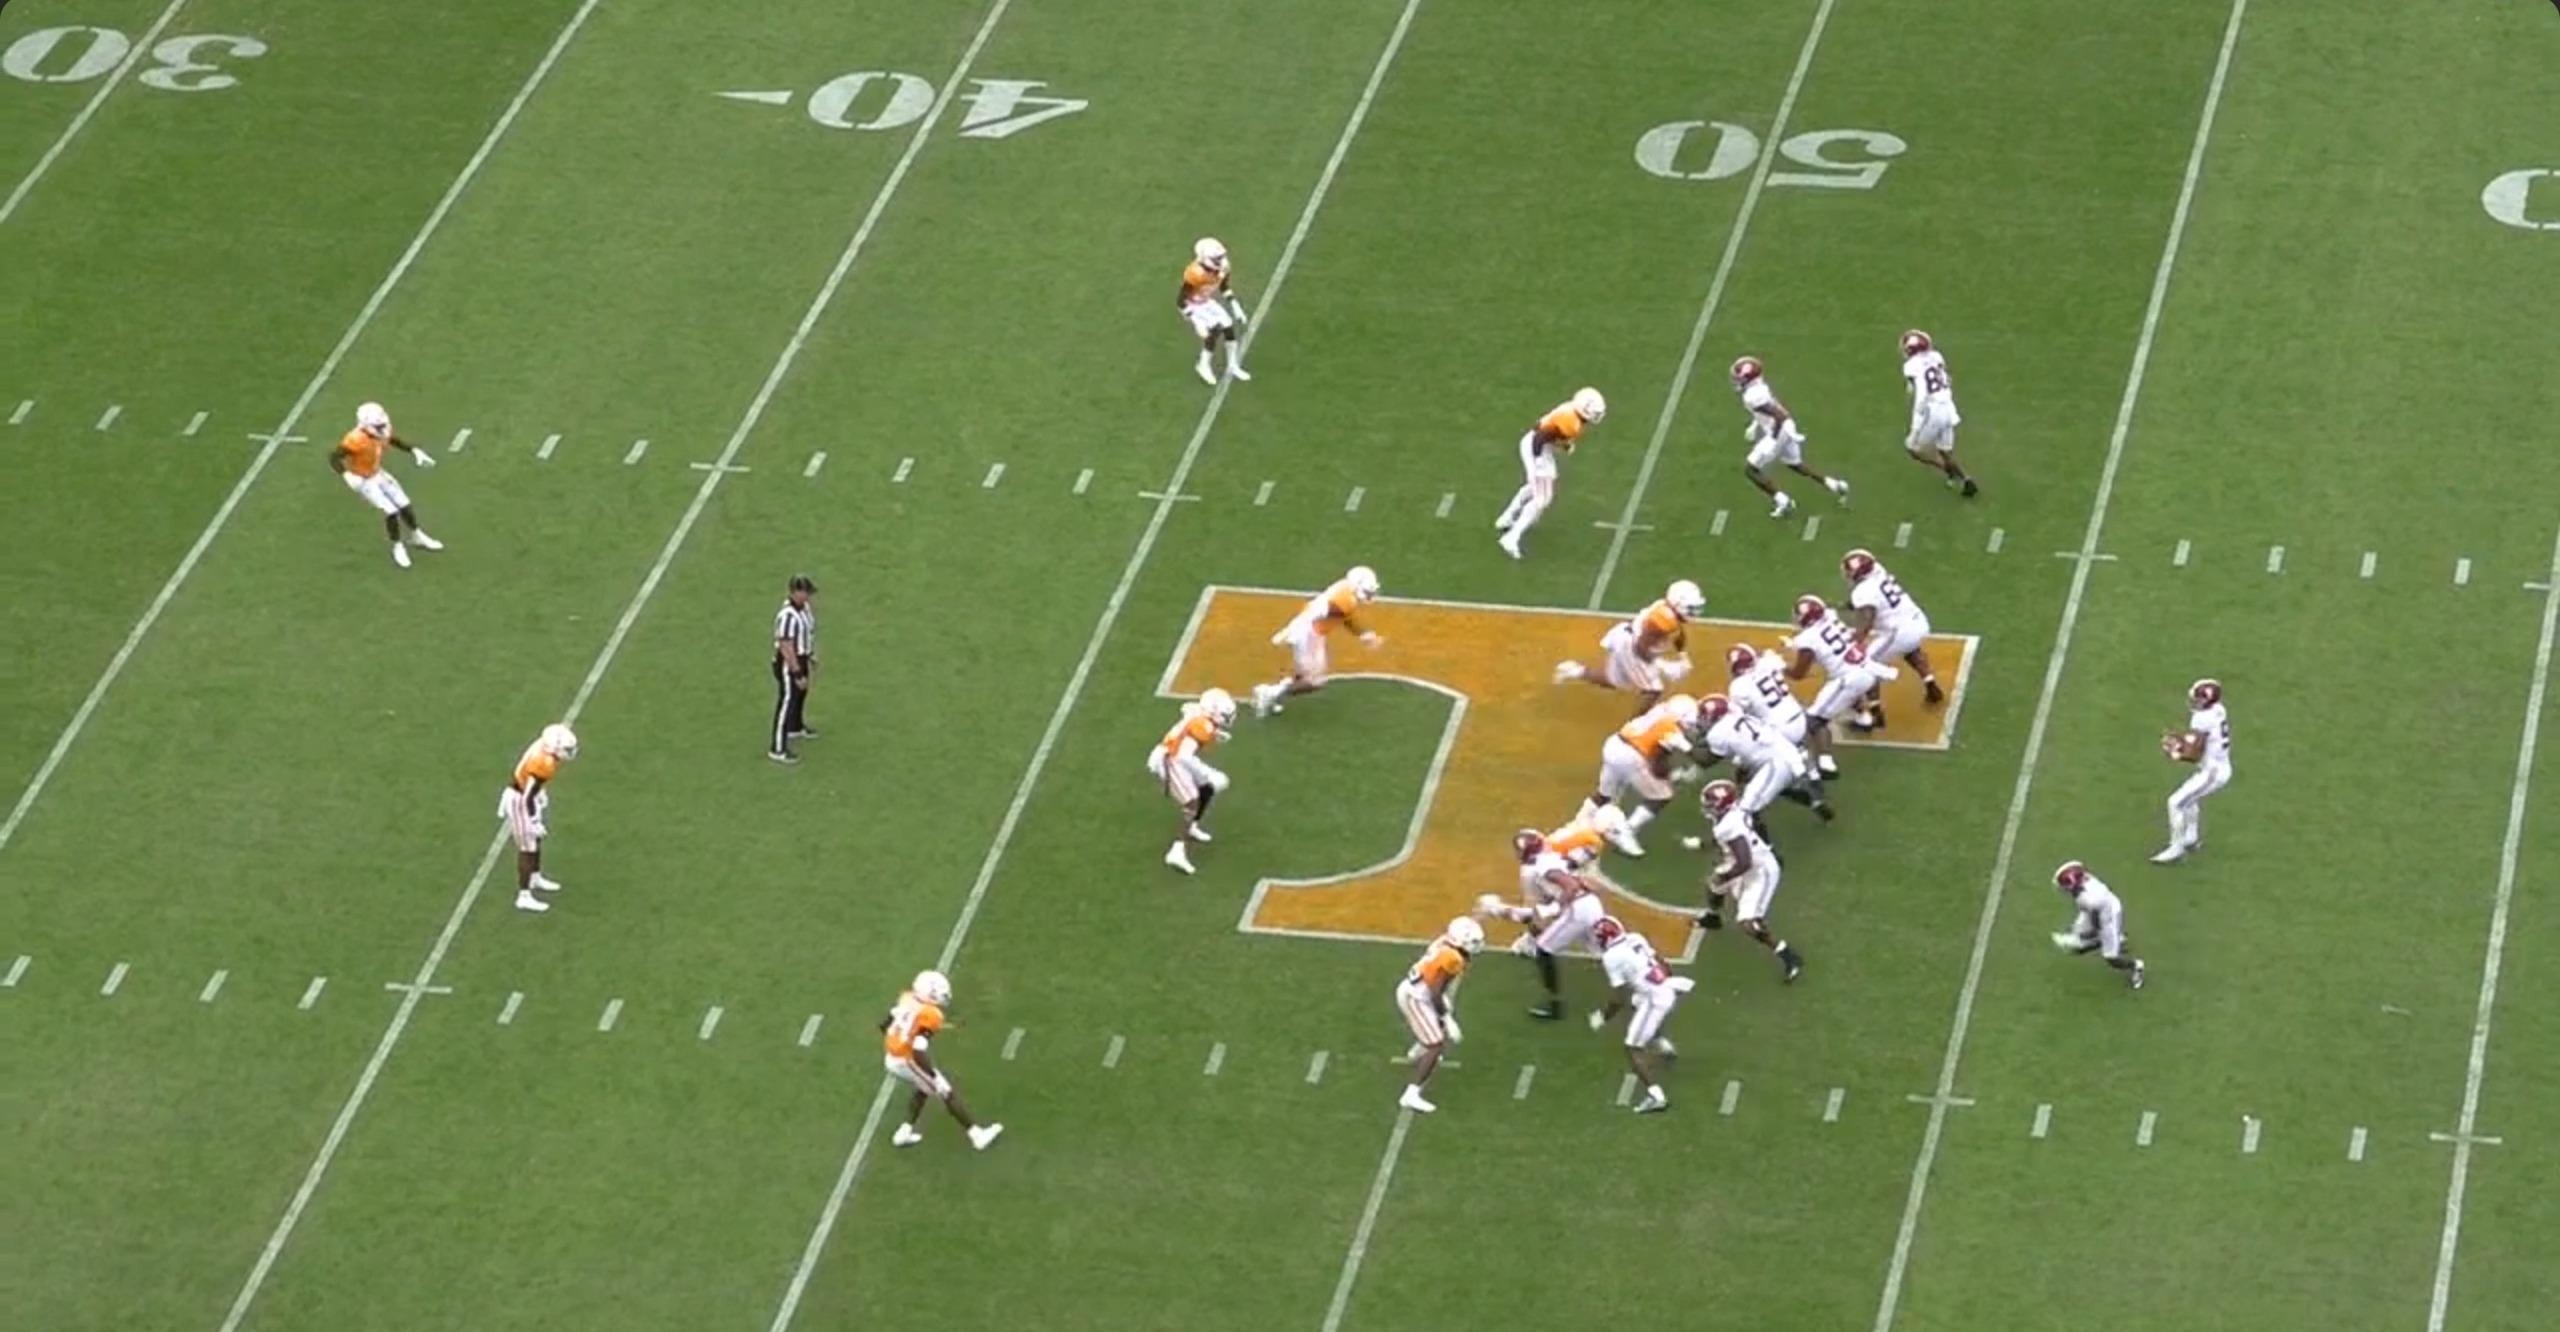defense: (1548, 685, 1705, 855), (884, 970, 1016, 1161), (1383, 905, 1493, 1120), (1244, 567, 1385, 729), (1495, 383, 1619, 565), (332, 401, 459, 579), (1554, 581, 1715, 718), (1148, 682, 1251, 875), (491, 718, 577, 924), (1177, 228, 1260, 393), (1541, 807, 1624, 883)
oline: (1680, 780, 1813, 992), (1769, 589, 1888, 767), (1685, 689, 1815, 846), (1825, 552, 1949, 718), (1717, 636, 1810, 748)
qb: (2138, 677, 2232, 872)
ref: (753, 570, 828, 773)
skill: (1471, 841, 1608, 1027), (1585, 916, 1695, 1124), (1722, 357, 1852, 526), (2045, 853, 2160, 995), (1900, 330, 1989, 511)
